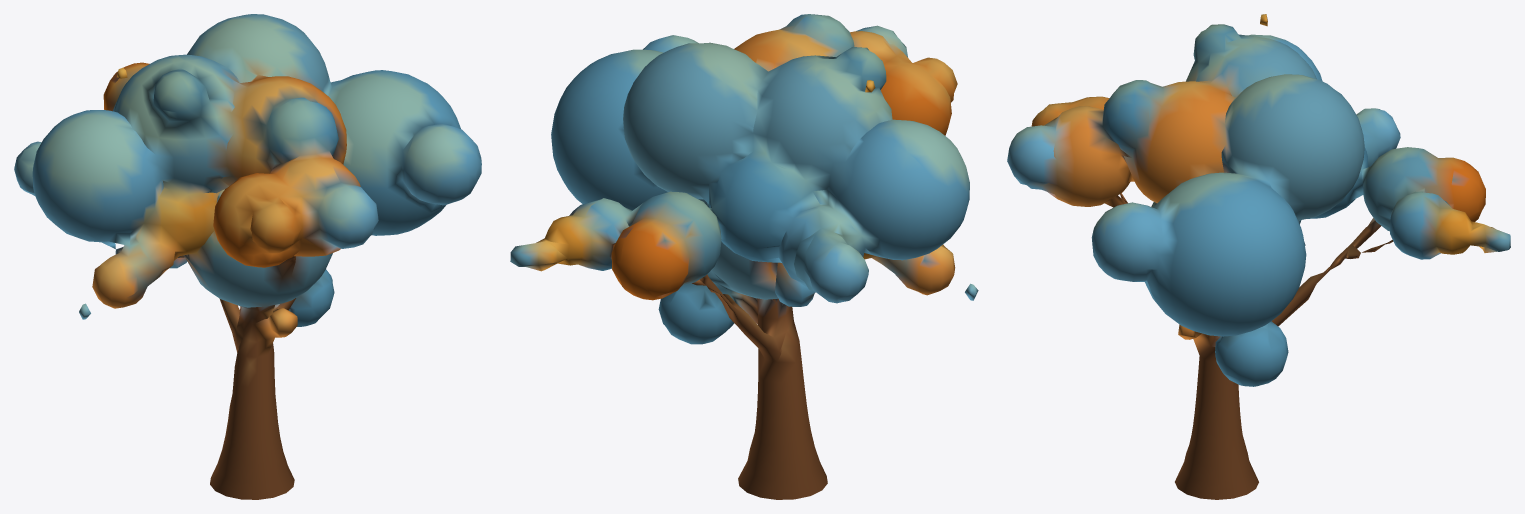
Rendered from canopy-tree-205-lod1.obj.
The picture shows the model from 3 angles, left to right: view 1: azimuth 30°, elevation 25°; view 2: azimuth 150°, elevation 25°; view 3: azimuth 270°, elevation 25°; orthographic projection. The views are drawn at different scales.
Visible parts, largest first — view 1: simplified; view 2: simplified; view 3: simplified.
Boxes of the visible parts, x1,y1,x2,y2 form: simplified: (14,14,481,499); simplified: (510,14,978,499); simplified: (1007,14,1510,499).
Size of the model in its own units: 354 by 366 by 397.
